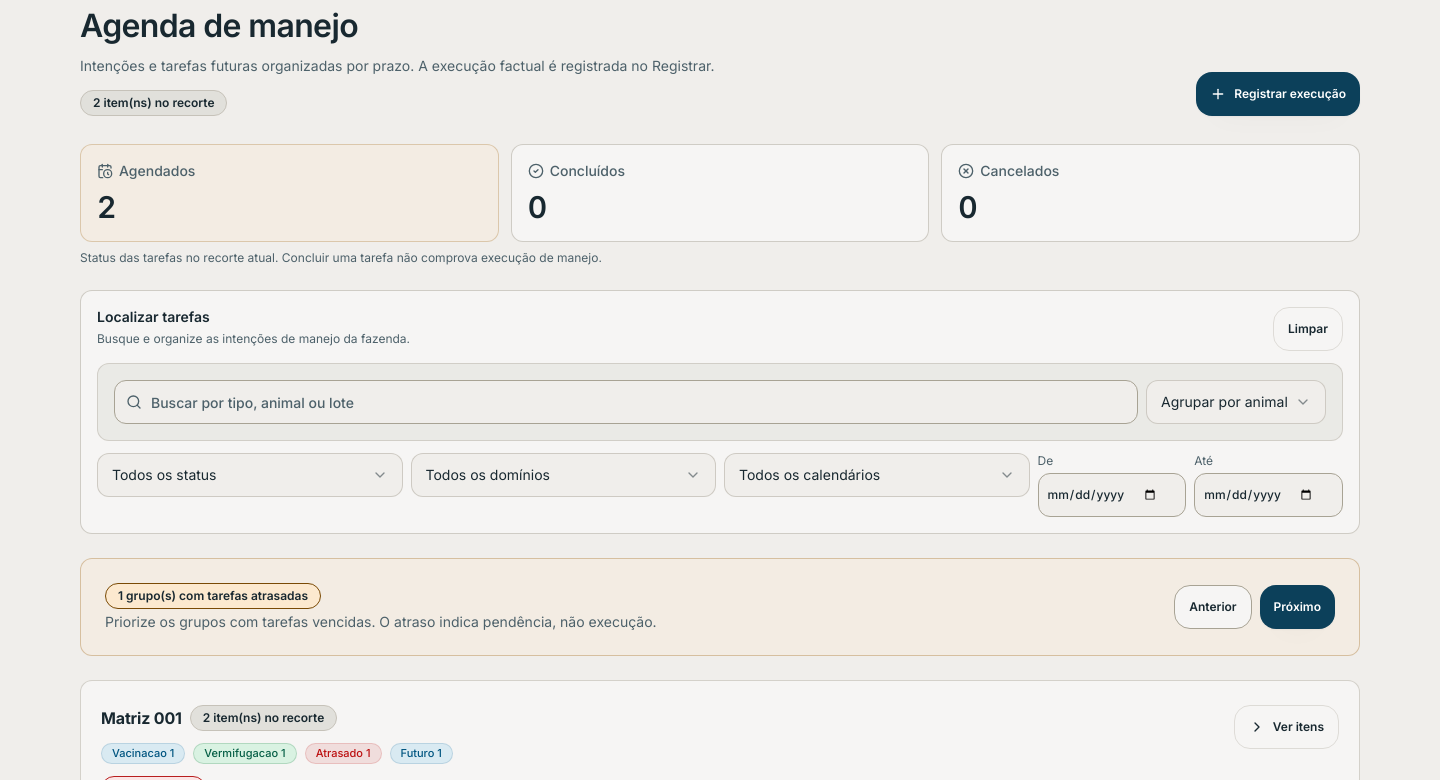
it: Agenda page › permite limpar os filtros diretamente após uma busca sem resultados
Type "sem-correspondencia-visual-v2" into the field named "Buscar na agenda".
click(626, 402); type("sem-correspondencia-visual-v2")  # box [114,380,1138,424]
(page scrolled)
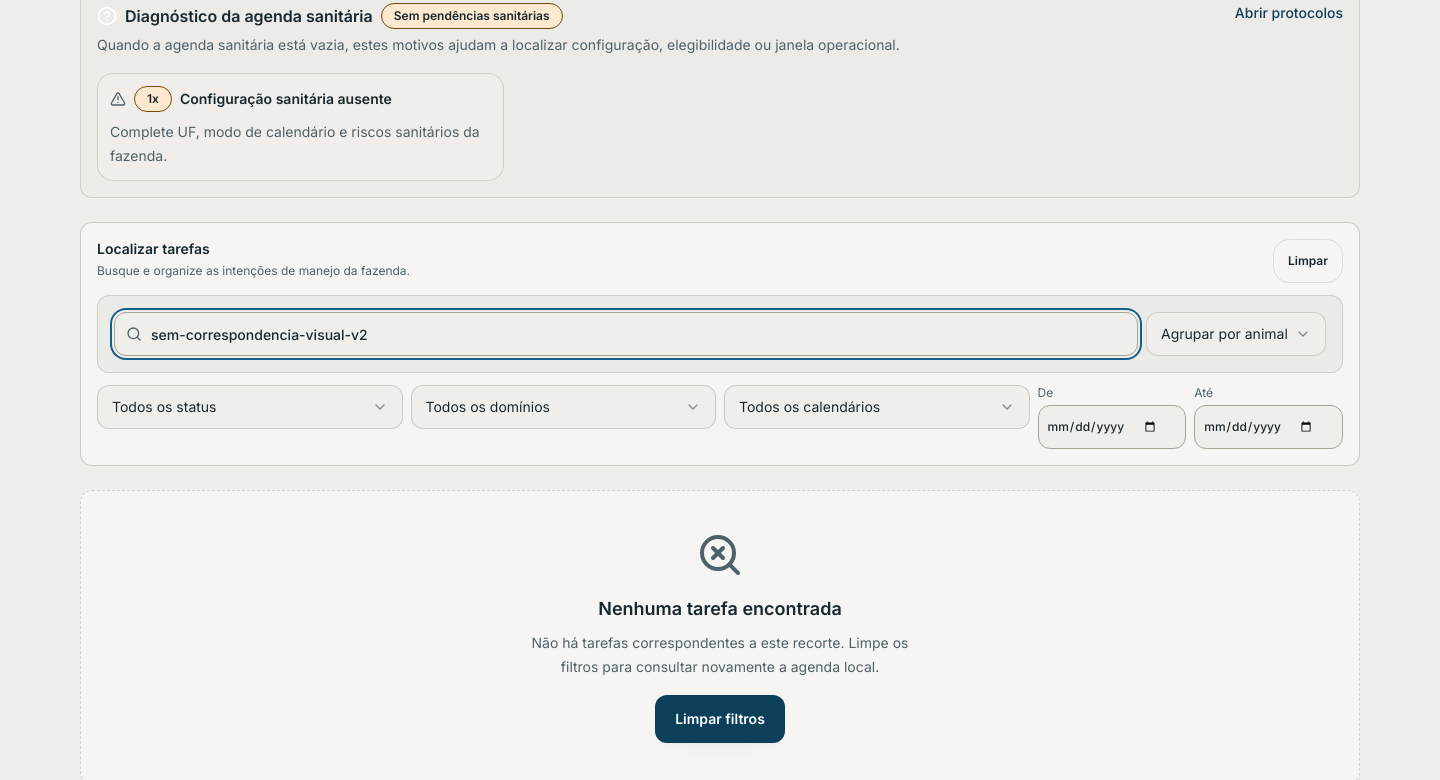
Expected: the heading "Nenhuma tarefa encontrada" is shown, [598,595,842,623]
Click the button "Limpar filtros".
click(720, 719)  # box [655,695,785,743]
(page scrolled)
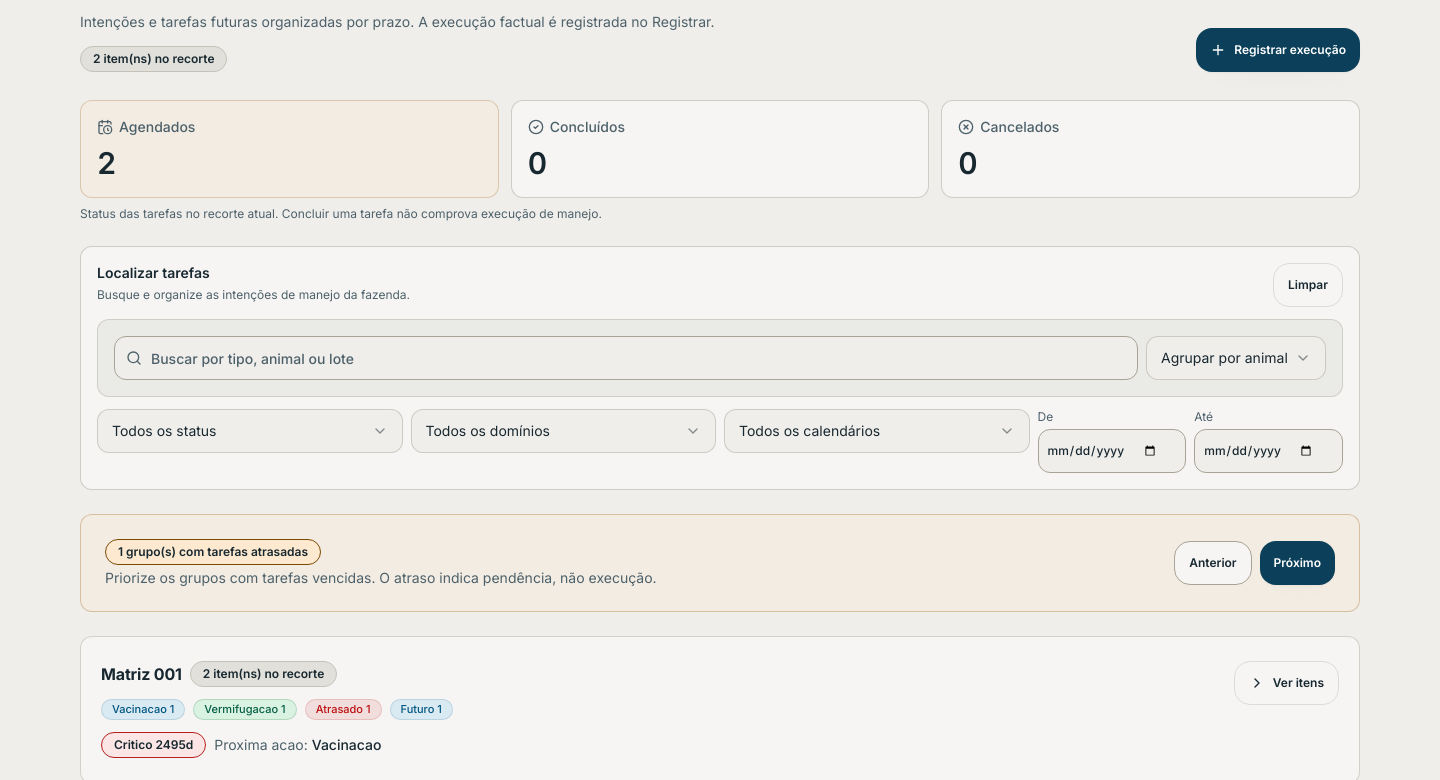
Expected: the heading "Nenhuma tarefa encontrada" is gone
Expected: the field named "Buscar na agenda" is empty, [114,336,1138,380]
